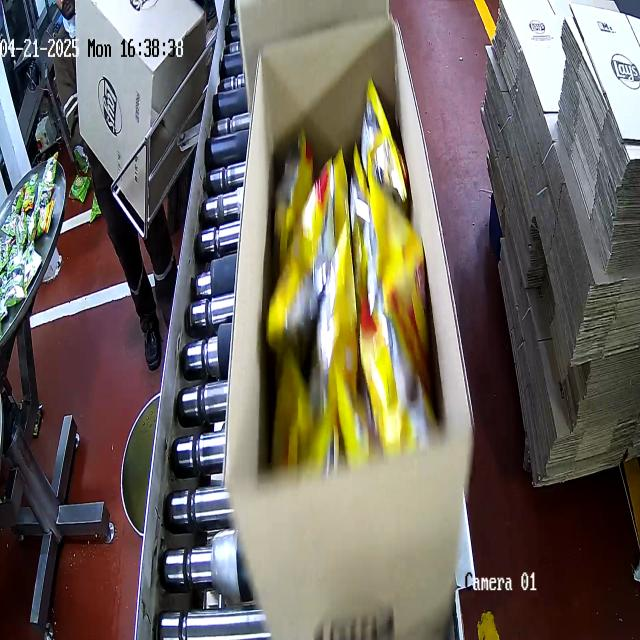SALTED: (269, 104, 418, 476)
